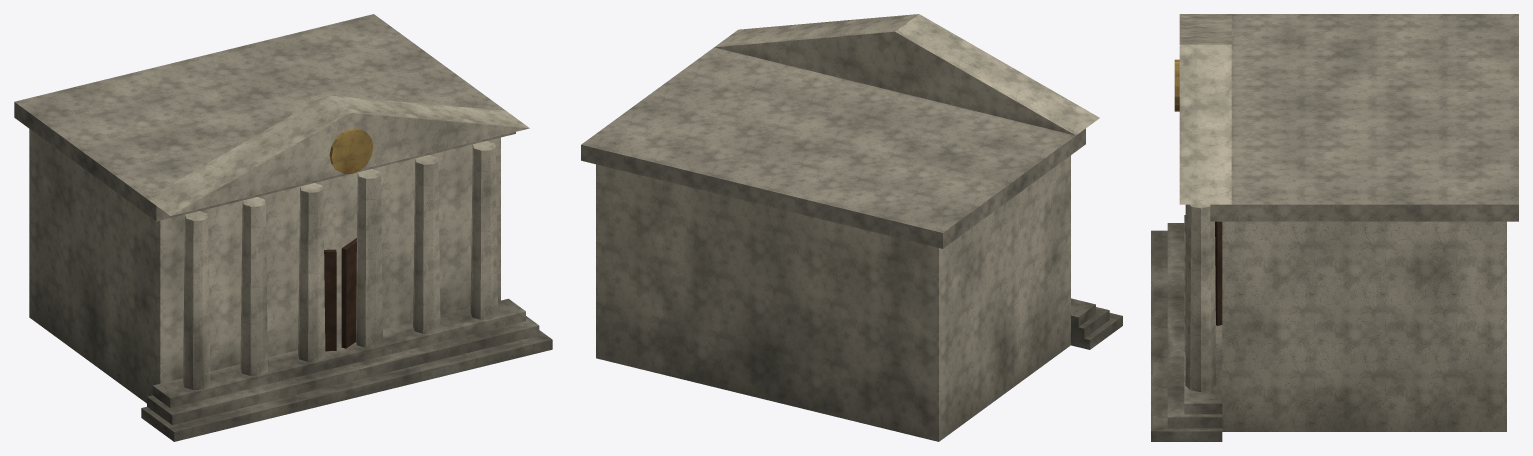
Rendered from bank.glb.
The picture shows the model from 3 angles, left to right: view 1: azimuth 30°, elevation 25°; view 2: azimuth 150°, elevation 25°; view 3: azimuth 270°, elevation 25°; orthographic projection. The views are drawn at different scales.
Parts seen in each view (by area): view 1: bank; view 2: bank; view 3: bank.
Boxes of the visible parts, <box> form: bank: <box>14,14,552,441</box>; bank: <box>581,14,1122,441</box>; bank: <box>1151,14,1518,441</box>.
Size of the model in its own units: 20 by 13.8 by 15.5.
Materials: 5 (5 with a texture image).
